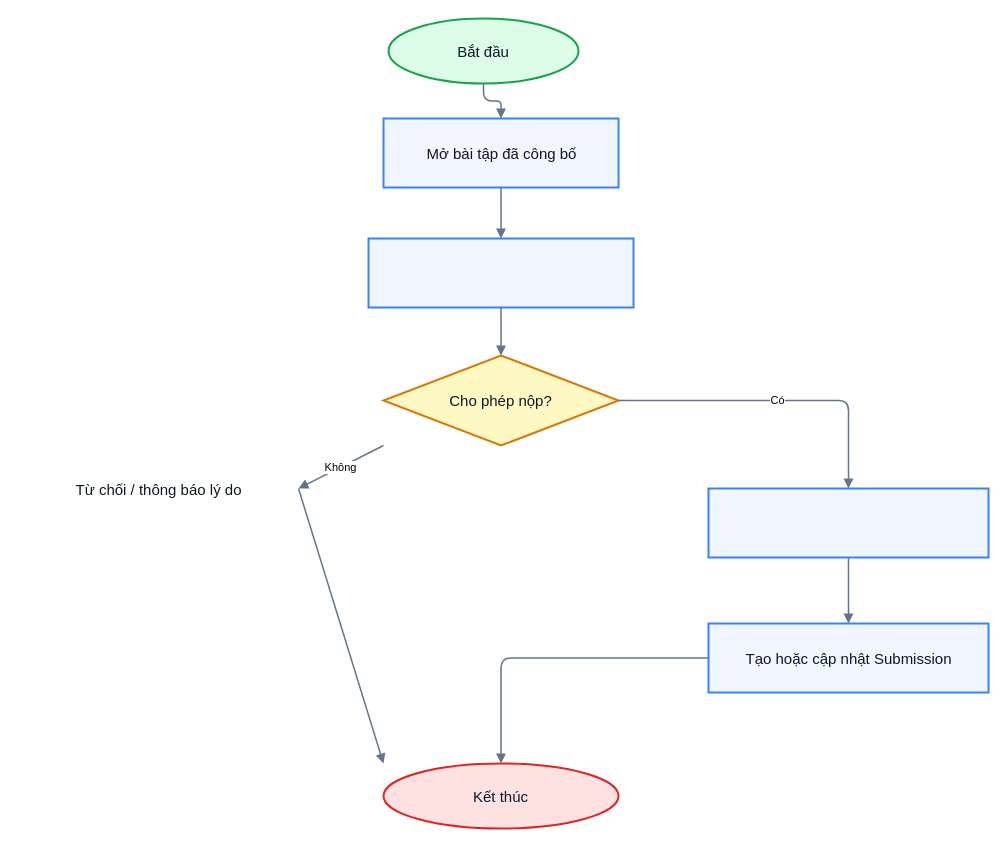
This 1006x846 diagram has some shape labels left out. Here are the shapes that lost their labels. From the top down, the box of each, then its label:
(367, 237, 634, 308): Kiểm tra enrollment và deadline
(707, 487, 989, 558): Nhập nội dung và gửi bài
